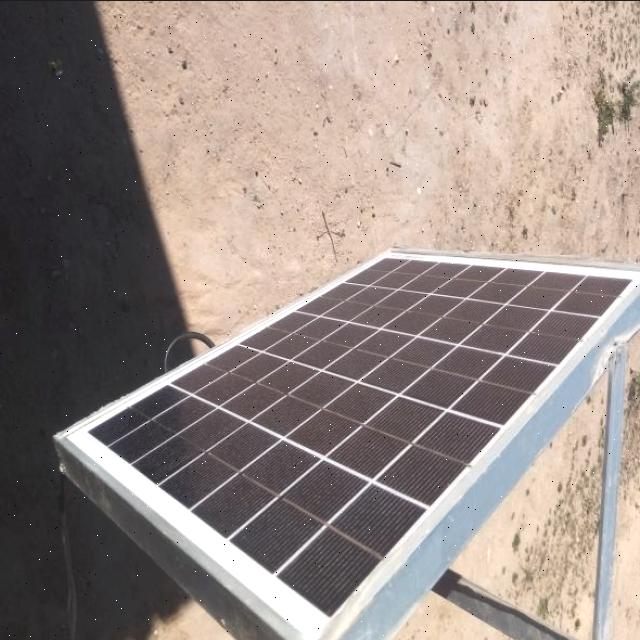Normal Solar Panel: (58, 243, 640, 640)
